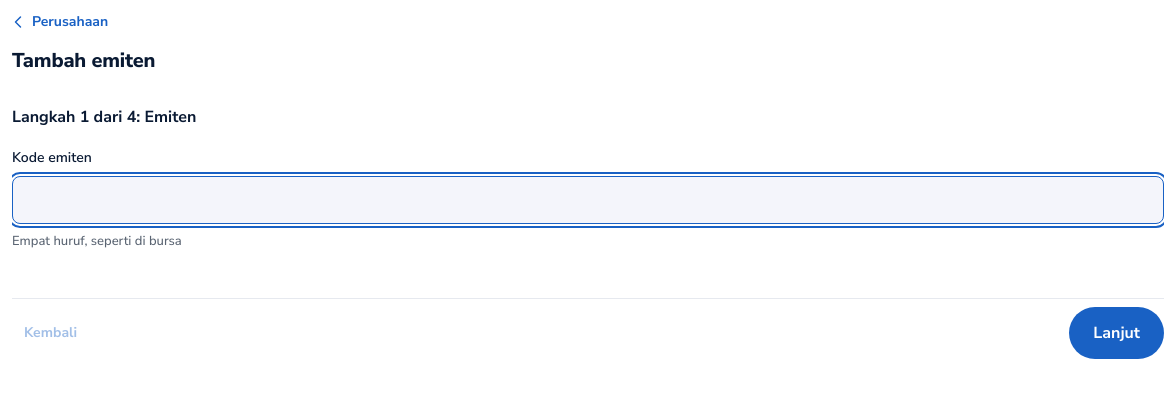
Tambah emiten: wizard langkah (design.md §3.4, A6.2), kasus langkah dari AddScreen.test.tsx › step 1: ticker › rejects non-letters at once and short codes on Lanjut
Type "A1" into the field labelled "Kode emiten" at (588, 200), box [12,176,1164,224]
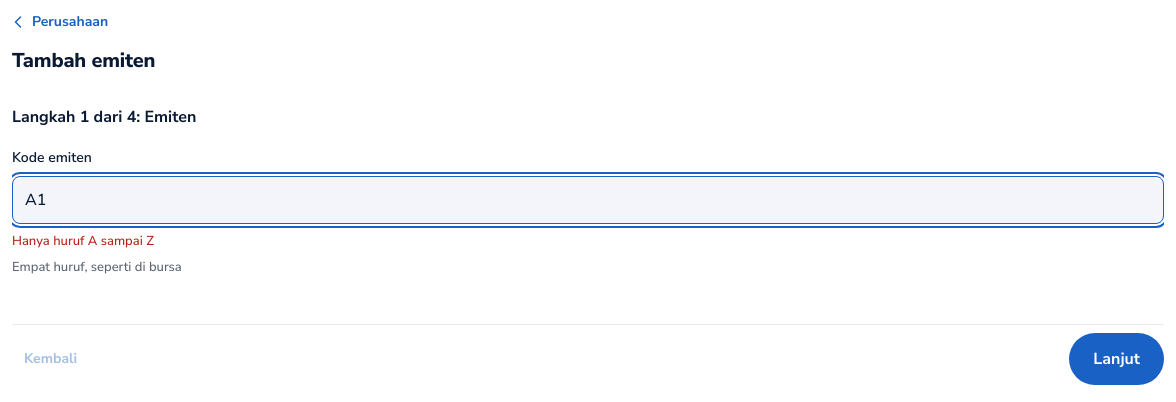
Expected: the text "Hanya huruf A sampai Z" is shown, [12,232,154,250]
Replace the text in the field labelled "Kode emiten" with "AB" at (588, 200), box [12,176,1164,224]
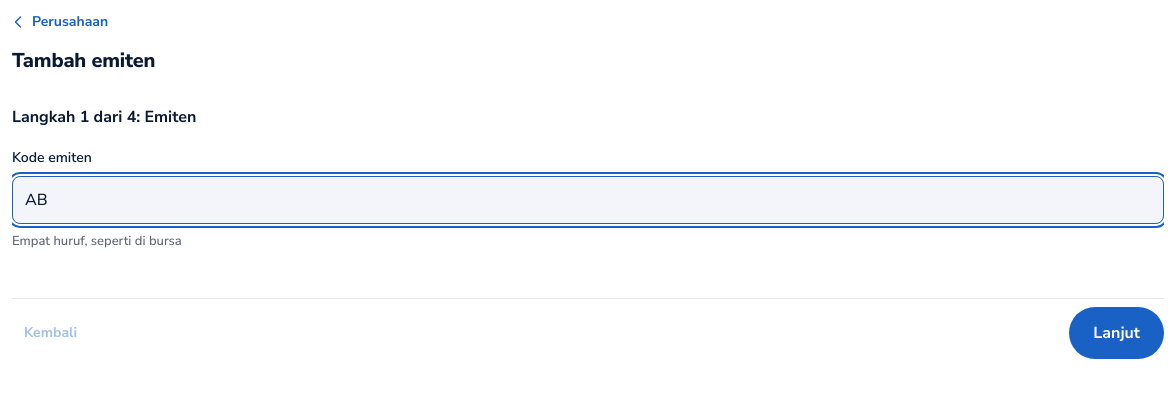
Expected: the text "Hanya huruf A sampai Z" is gone
Click the button "Lanjut" at (1117, 333), box [1069,307,1164,359]
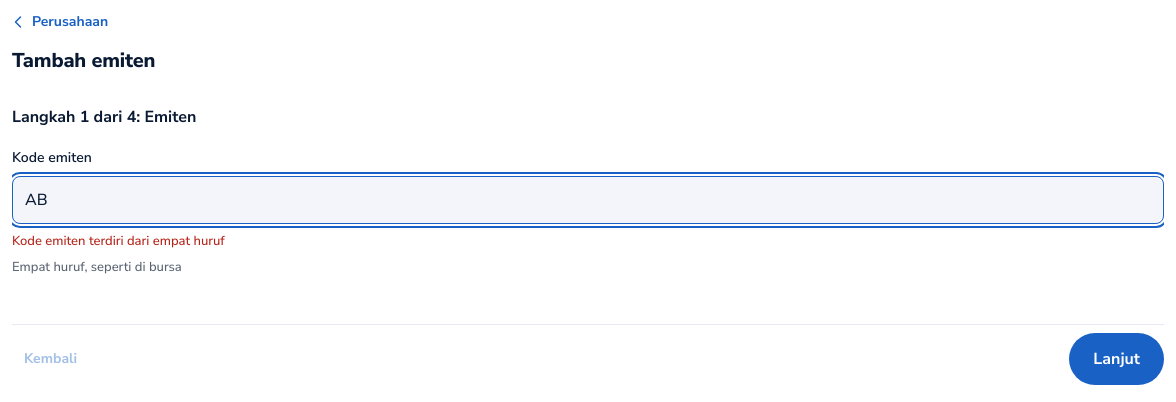
Expected: the text "Kode emiten terdiri dari empat huruf" is shown, [12,232,225,250]
